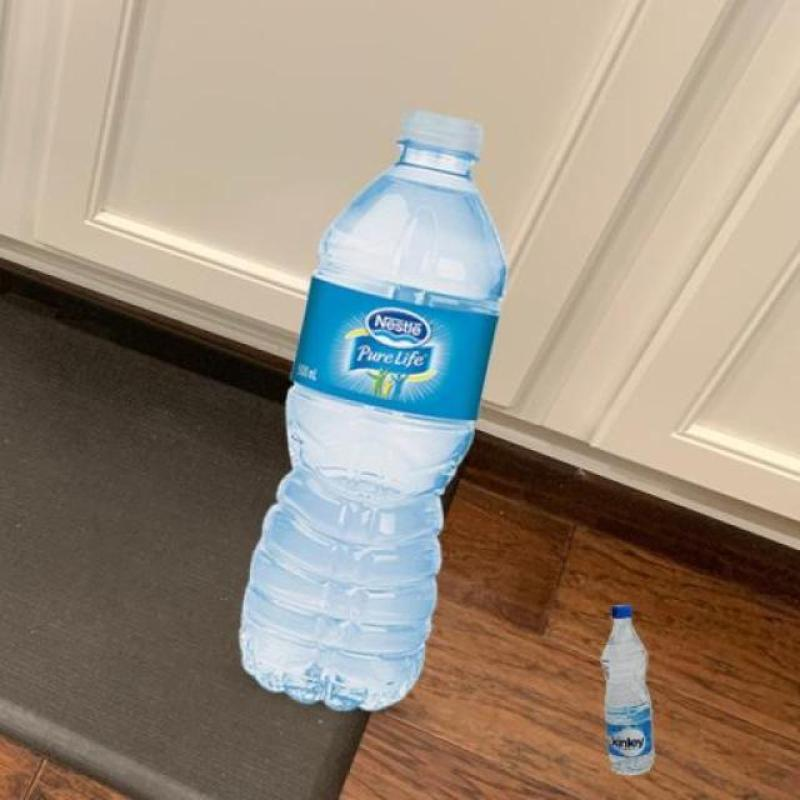botella: (237, 110, 512, 715), (596, 601, 659, 775)
